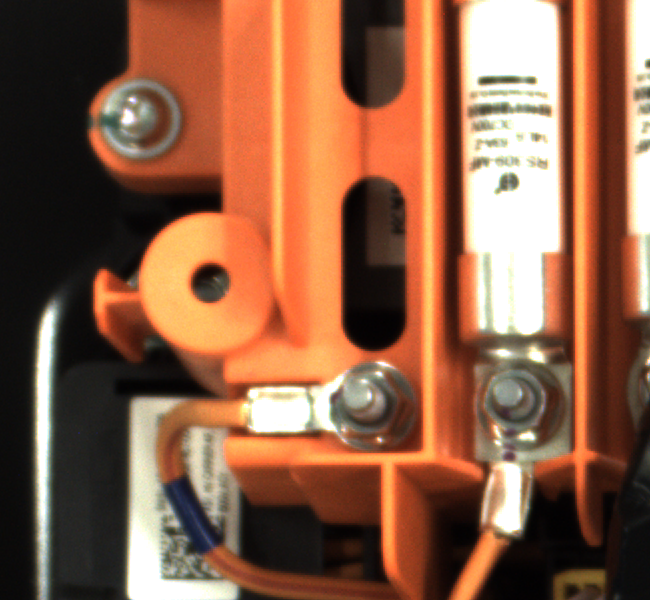screw_m: (91, 79, 204, 173)
screw_s: (459, 351, 564, 455), (318, 360, 415, 457)
